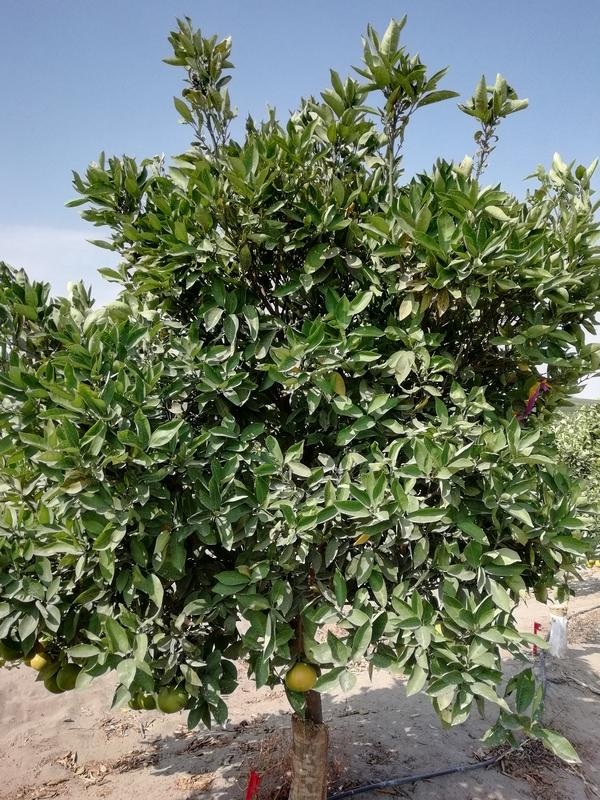mandarina verde: (285, 662, 317, 691), (157, 685, 187, 713), (56, 663, 82, 690), (31, 651, 53, 670)
